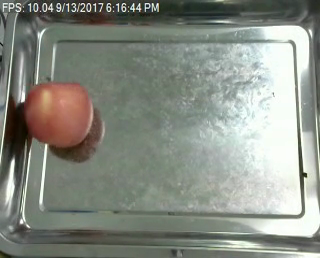Apple: (24, 81, 92, 147)
